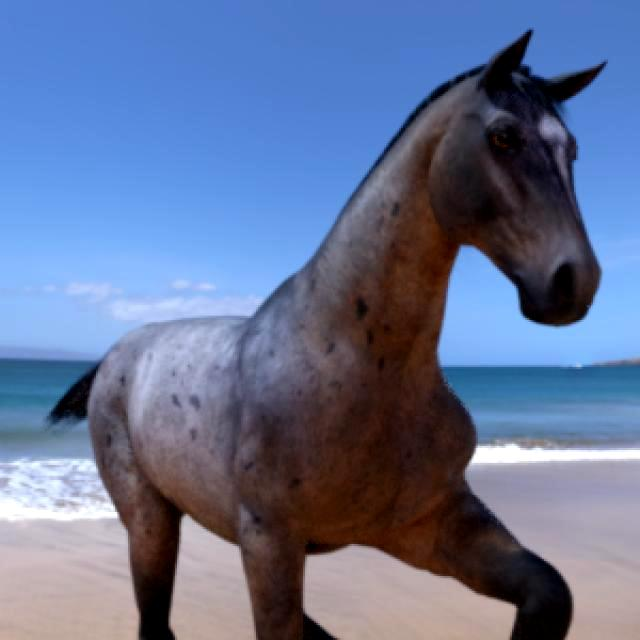horse: (51, 32, 602, 640)
